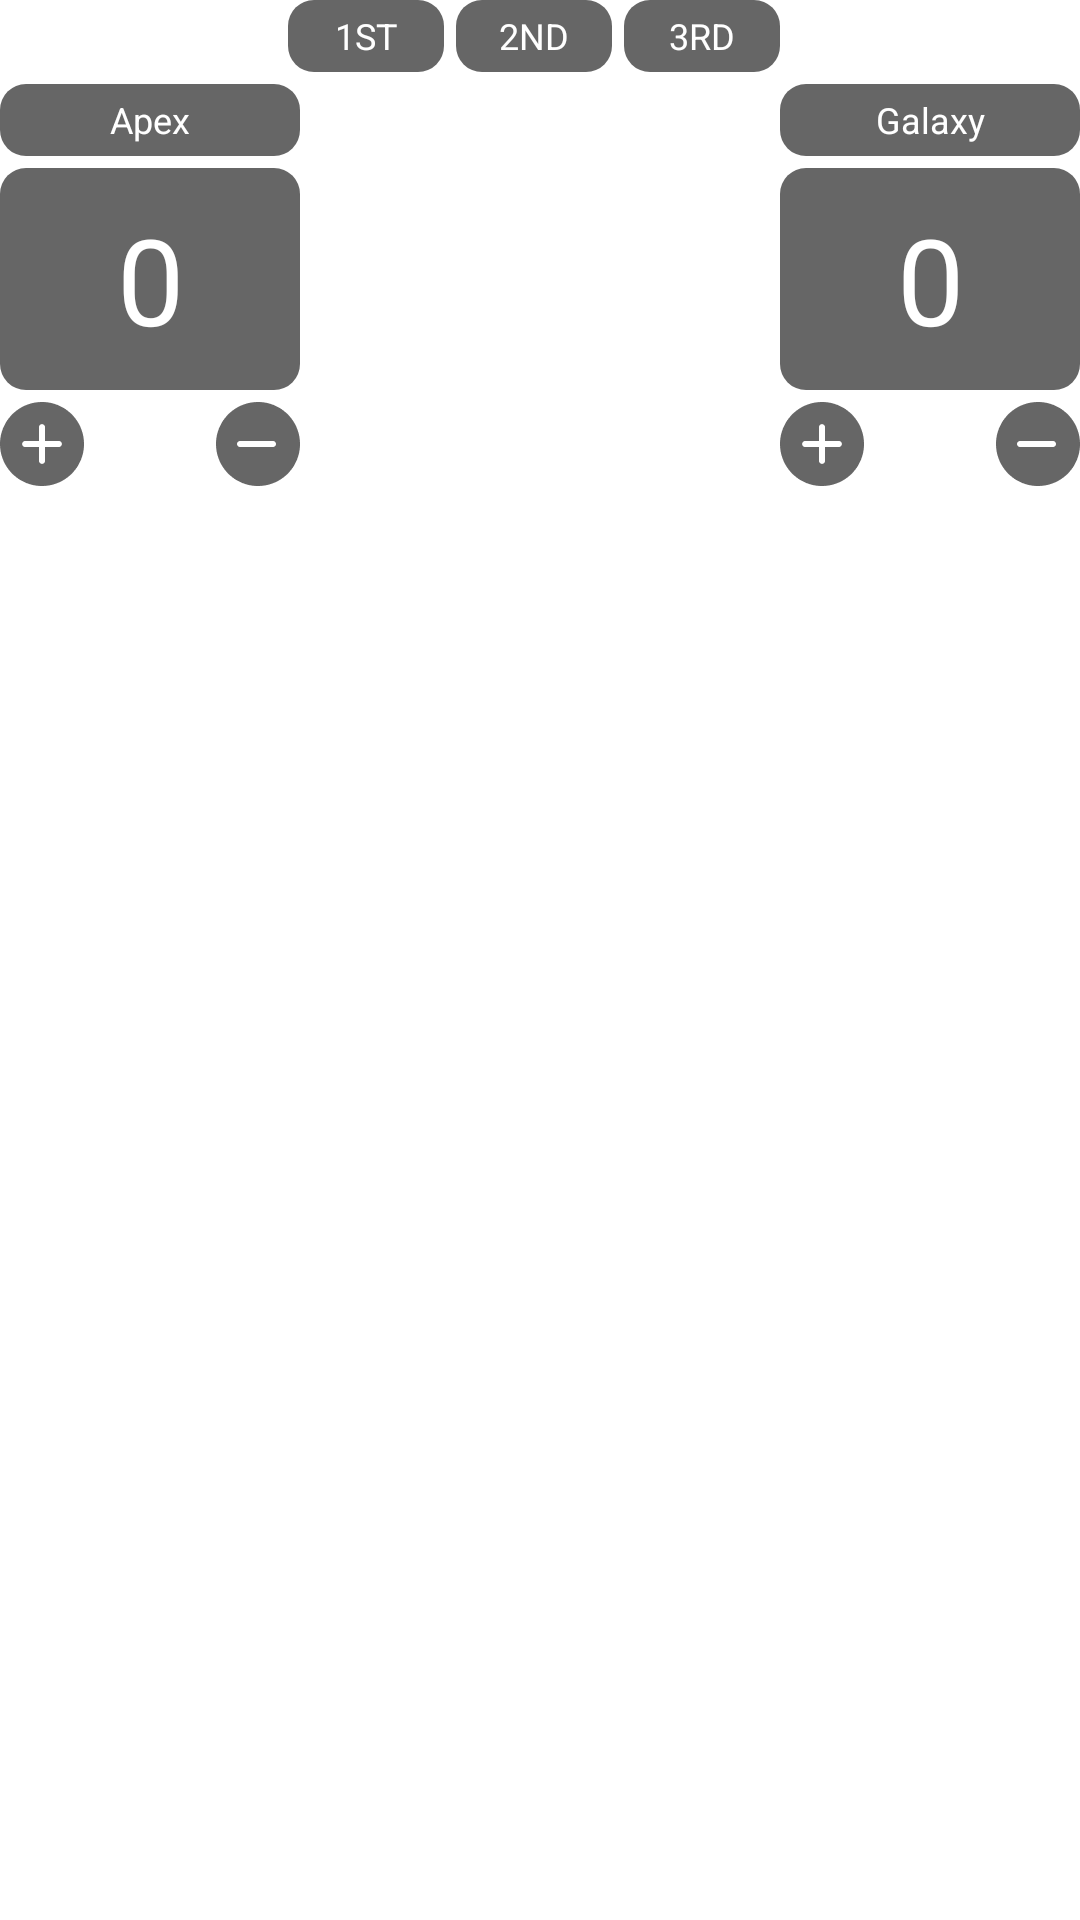

Icon click points for this 1080*1920 phone screenshot, format point (x, y):
score count add: point (42, 444), point (822, 444)
score count del: point (258, 444), point (1038, 444)
